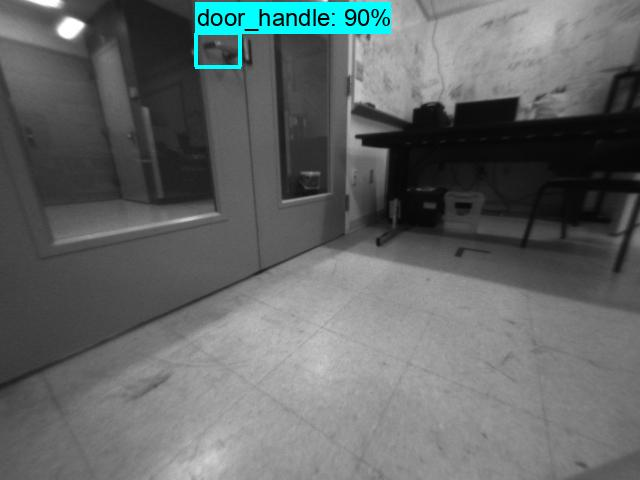door_handle: (197, 36, 240, 67)
